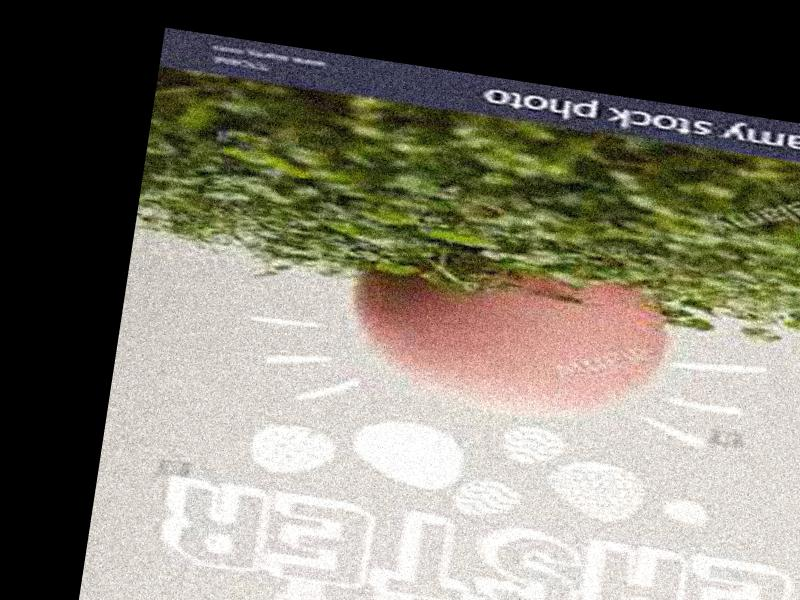Eggs: (334, 243, 669, 432)
